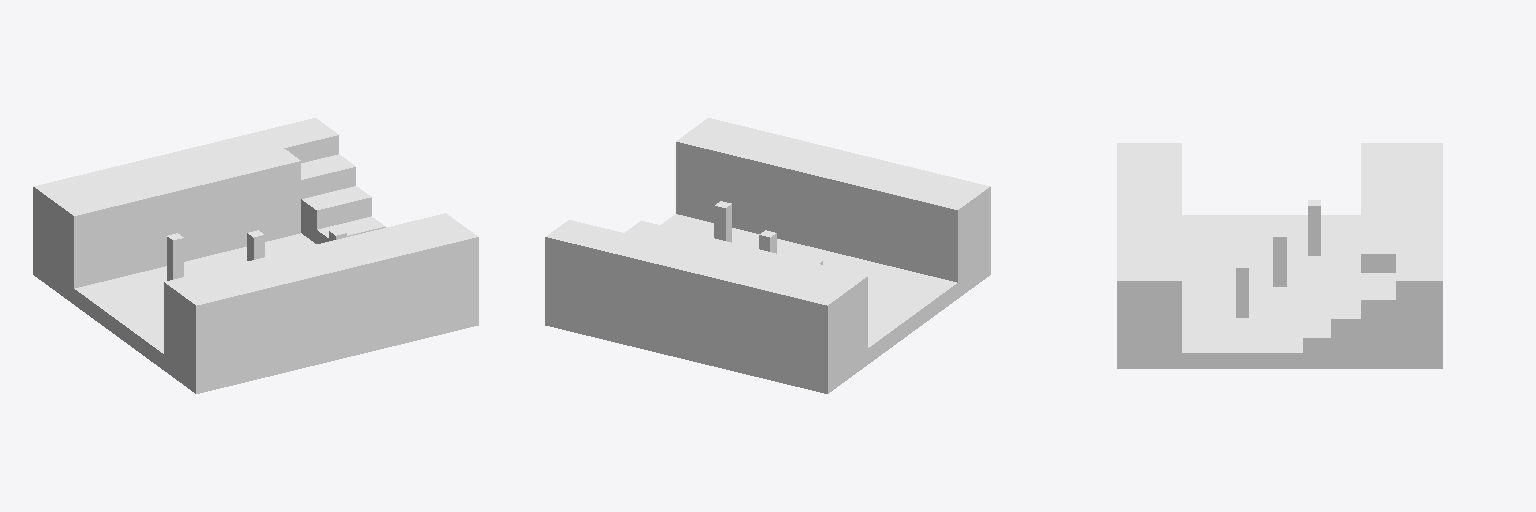
Rendered from 2_room1_ground.obj.
The picture shows the model from 3 angles: view 1: azimuth 30°, elevation 25°; view 2: azimuth 150°, elevation 25°; view 3: azimuth 270°, elevation 25°; orthographic projection.
Visible parts, largest first — view 1: object 1; view 2: object 1; view 3: object 1.
Part boxes in pixels (x1,y1,x2,y2): object 1: (33, 118, 478, 393); object 1: (545, 118, 990, 393); object 1: (1117, 143, 1442, 368).
Size of the model in its own units: 20 by 6 by 20.